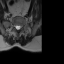CCS_normal: (17, 23, 18, 31)
LFS_normal: (20, 23, 22, 29)
LLS_normal: (18, 24, 20, 30)
RFS_normal: (13, 23, 15, 29)
RLS_normal: (15, 24, 17, 30)
